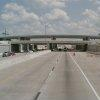Bridge: (4, 26, 88, 55)
